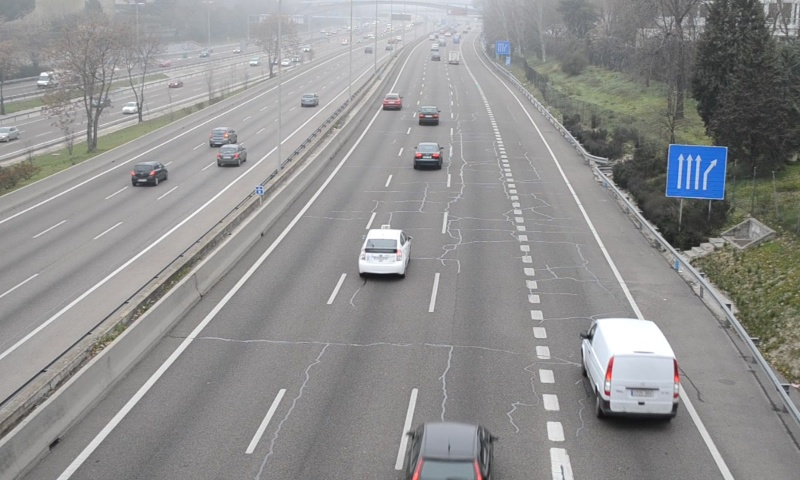car: (402, 424, 494, 480), (358, 228, 408, 274), (414, 142, 441, 167), (418, 104, 440, 124), (382, 92, 402, 110)
van: (582, 318, 679, 420)
